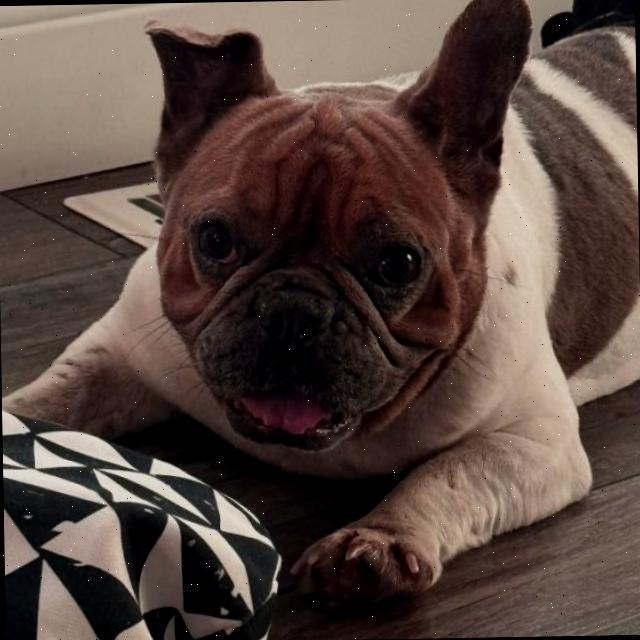french_bulldog_dog: (131, 0, 564, 464)
